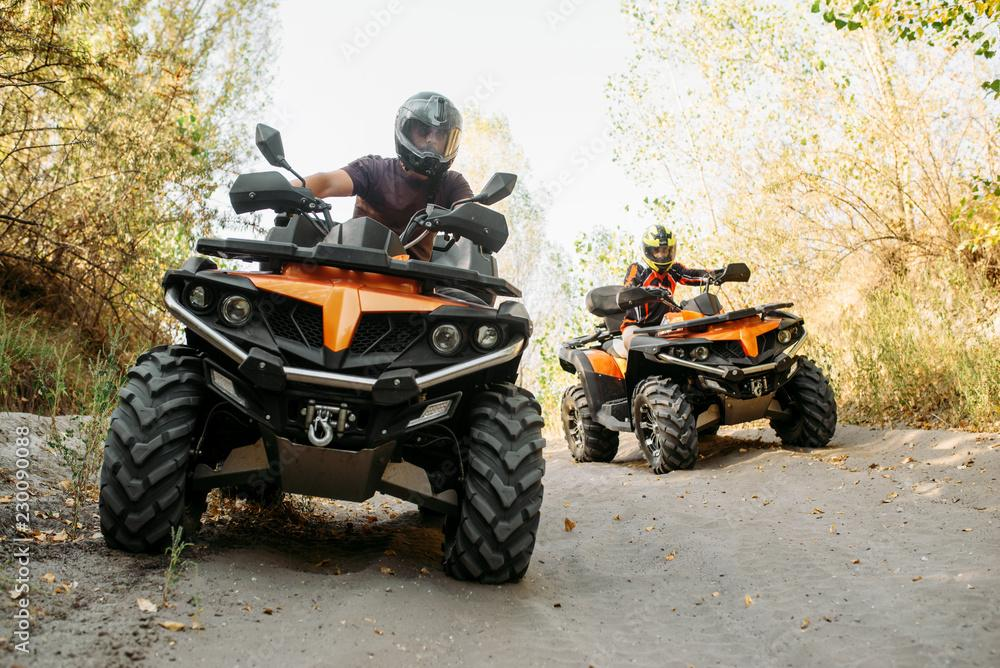helmet: (393, 90, 463, 179), (640, 223, 678, 275)
